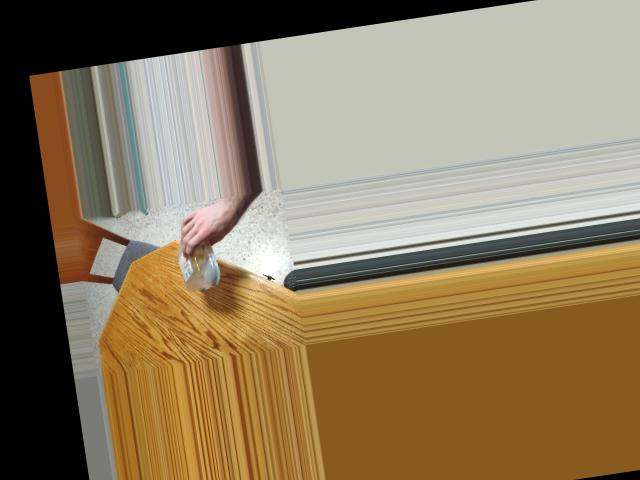cheese: (169, 220, 226, 285)
